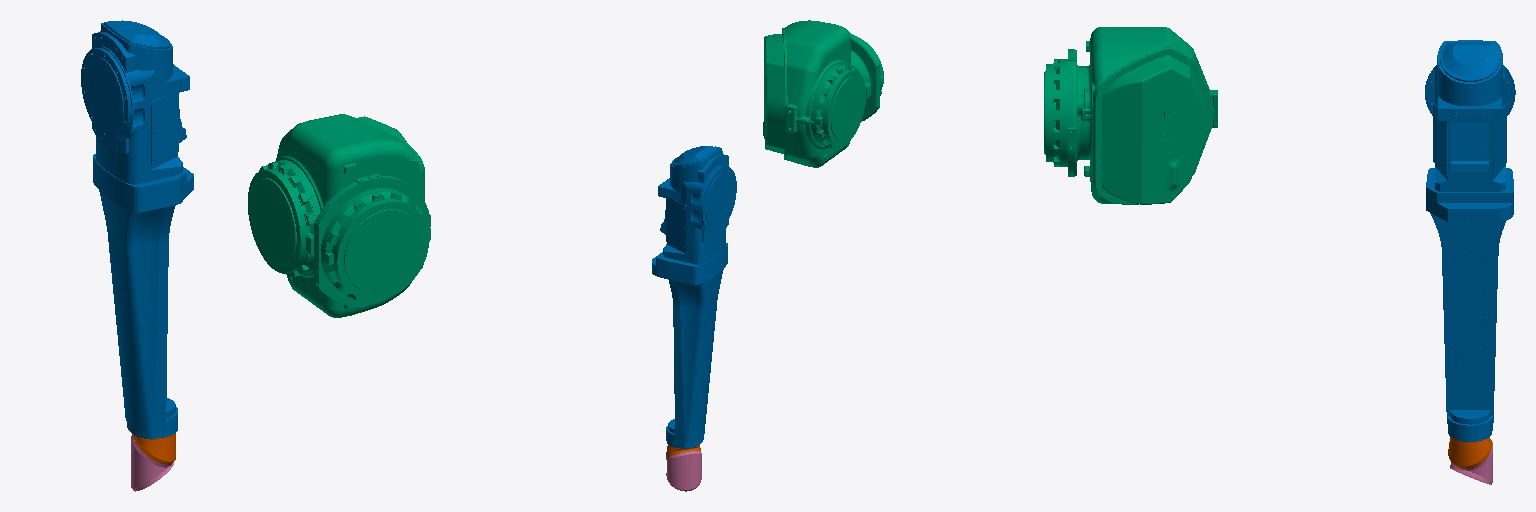
URDF robot description (IRB5500-27_rev00):
<?xml version="1.0" ?>
<robot name="IRB5500-27_rev00">

<link name="base_link">
  <inertial>
    <origin xyz="0.002483396105407028 -0.342647003764746 1.3243039524168518" rpy="0 0 0"/>
    <mass value="967.1601750189261"/>
    <inertia ixx="50.446618" iyy="56.81412" izz="83.832361" ixy="0.001468" iyz="2.394735" ixz="0.161943"/>
  </inertial>
  <visual>
    <origin xyz="0 0 0" rpy="0 0 0"/>
    <geometry>
      <mesh filename="package://IRB5500-27_rev00_description/meshes/base_link.stl" scale="0.001 0.001 0.001"/>
    </geometry>
    <material name="silver"/>
  </visual>
  <collision>
    <origin xyz="0 0 0" rpy="0 0 0"/>
    <geometry>
      <mesh filename="package://IRB5500-27_rev00_description/meshes/base_link.stl" scale="0.001 0.001 0.001"/>
    </geometry>
  </collision>
</link>

<link name="IRB5500-27_rev00_AXIS7_ELBOW_CAD_1">
  <inertial>
    <origin xyz="0.0003509592640977202 0.12743781394873108 -0.31158977032562873" rpy="0 0 0"/>
    <mass value="702.2698415858004"/>
    <inertia ixx="51.464422" iyy="39.588601" izz="31.478418" ixy="0.074758" iyz="17.836383" ixz="0.02652"/>
  </inertial>
  <visual>
    <origin xyz="0.0 0.193265 -1.160001" rpy="0 0 0"/>
    <geometry>
      <mesh filename="package://IRB5500-27_rev00_description/meshes/IRB5500-27_rev00_AXIS7_ELBOW_CAD_1.stl" scale="0.001 0.001 0.001"/>
    </geometry>
    <material name="silver"/>
  </visual>
  <collision>
    <origin xyz="0.0 0.193265 -1.160001" rpy="0 0 0"/>
    <geometry>
      <mesh filename="package://IRB5500-27_rev00_description/meshes/IRB5500-27_rev00_AXIS7_ELBOW_CAD_1.stl" scale="0.001 0.001 0.001"/>
    </geometry>
  </collision>
</link>

<link name="IRB5500-27_rev00_LINK1_CAD_1">
  <inertial>
    <origin xyz="0.025583014458332692 0.34431366936717306 9.204506282023406e-05" rpy="0 0 0"/>
    <mass value="1176.3951689098158"/>
    <inertia ixx="64.129491" iyy="51.509034" izz="50.070808" ixy="1.140649" iyz="0.036538" ixz="-0.021801"/>
  </inertial>
  <visual>
    <origin xyz="0.0 -0.204235 -0.531501" rpy="0 0 0"/>
    <geometry>
      <mesh filename="package://IRB5500-27_rev00_description/meshes/IRB5500-27_rev00_LINK1_CAD_1.stl" scale="0.001 0.001 0.001"/>
    </geometry>
    <material name="silver"/>
  </visual>
  <collision>
    <origin xyz="0.0 -0.204235 -0.531501" rpy="0 0 0"/>
    <geometry>
      <mesh filename="package://IRB5500-27_rev00_description/meshes/IRB5500-27_rev00_LINK1_CAD_1.stl" scale="0.001 0.001 0.001"/>
    </geometry>
  </collision>
</link>

<link name="IRB5500-27_rev00_LINK2_CAD_1">
  <inertial>
    <origin xyz="-0.0864843863838072 0.6879461864387152 -0.00018906668010598704" rpy="0 0 0"/>
    <mass value="723.6999417468928"/>
    <inertia ixx="163.23224" iyy="8.46497" izz="160.035017" ixy="2.562785" iyz="0.028196" ixz="-0.014957"/>
  </inertial>
  <visual>
    <origin xyz="0.231 -0.640235 -0.531501" rpy="0 0 0"/>
    <geometry>
      <mesh filename="package://IRB5500-27_rev00_description/meshes/IRB5500-27_rev00_LINK2_CAD_1.stl" scale="0.001 0.001 0.001"/>
    </geometry>
    <material name="silver"/>
  </visual>
  <collision>
    <origin xyz="0.231 -0.640235 -0.531501" rpy="0 0 0"/>
    <geometry>
      <mesh filename="package://IRB5500-27_rev00_description/meshes/IRB5500-27_rev00_LINK2_CAD_1.stl" scale="0.001 0.001 0.001"/>
    </geometry>
  </collision>
</link>

<link name="IRB5500-27_rev00_LINK3_CAD_1">
  <inertial>
    <origin xyz="0.14845834994718493 0.0005145714777818888 -0.3972525527369227" rpy="0 0 0"/>
    <mass value="607.3432806136773"/>
    <inertia ixx="118.657638" iyy="118.266163" izz="6.245279" ixy="-0.043898" iyz="-0.001657" ixz="3.559113"/>
  </inertial>
  <visual>
    <origin xyz="0.217 -1.940235 -0.531501" rpy="0 0 0"/>
    <geometry>
      <mesh filename="package://IRB5500-27_rev00_description/meshes/IRB5500-27_rev00_LINK3_CAD_1.stl" scale="0.001 0.001 0.001"/>
    </geometry>
    <material name="silver"/>
  </visual>
  <collision>
    <origin xyz="0.217 -1.940235 -0.531501" rpy="0 0 0"/>
    <geometry>
      <mesh filename="package://IRB5500-27_rev00_description/meshes/IRB5500-27_rev00_LINK3_CAD_1.stl" scale="0.001 0.001 0.001"/>
    </geometry>
  </collision>
</link>

<link name="IRB5500-27_rev00_LINK4_CAD_1">
  <inertial>
    <origin xyz="0.012058863240822004 -0.009960582103303084 -0.04504410797678493" rpy="0 0 0"/>
    <mass value="13.246564877496244"/>
    <inertia ixx="0.033719" iyy="0.032273" izz="0.043539" ixy="-0.003758" iyz="-0.004059" ixz="0.004914"/>
  </inertial>
  <visual>
    <origin xyz="-0.005 -1.940235 0.909499" rpy="0 0 0"/>
    <geometry>
      <mesh filename="package://IRB5500-27_rev00_description/meshes/IRB5500-27_rev00_LINK4_CAD_1.stl" scale="0.001 0.001 0.001"/>
    </geometry>
    <material name="silver"/>
  </visual>
  <collision>
    <origin xyz="-0.005 -1.940235 0.909499" rpy="0 0 0"/>
    <geometry>
      <mesh filename="package://IRB5500-27_rev00_description/meshes/IRB5500-27_rev00_LINK4_CAD_1.stl" scale="0.001 0.001 0.001"/>
    </geometry>
  </collision>
</link>

<link name="IRB5500-27_rev00_LINK5_CAD_1">
  <inertial>
    <origin xyz="-0.017548707689669776 0.014092028108875665 -0.05993422656961034" rpy="0 0 0"/>
    <mass value="22.90378370207619"/>
    <inertia ixx="0.08786" iyy="0.084554" izz="0.078073" ixy="-0.010367" iyz="1.9e-05" ixz="1.8e-05"/>
  </inertial>
  <visual>
    <origin xyz="-0.002347 -1.942426 0.983914" rpy="0 0 0"/>
    <geometry>
      <mesh filename="package://IRB5500-27_rev00_description/meshes/IRB5500-27_rev00_LINK5_CAD_1.stl" scale="0.001 0.001 0.001"/>
    </geometry>
    <material name="silver"/>
  </visual>
  <collision>
    <origin xyz="-0.002347 -1.942426 0.983914" rpy="0 0 0"/>
    <geometry>
      <mesh filename="package://IRB5500-27_rev00_description/meshes/IRB5500-27_rev00_LINK5_CAD_1.stl" scale="0.001 0.001 0.001"/>
    </geometry>
  </collision>
</link>

<link name="IRB5500-27_rev00_LINK5B_CAD_1">
  <inertial>
    <origin xyz="0.014048995269269985 -0.008687870182828128 -0.02647013689771649" rpy="0 0 0"/>
    <mass value="11.0274888011437"/>
    <inertia ixx="0.025137" iyy="0.025856" izz="0.031479" ixy="-0.00211" iyz="0.004105" ixz="-0.004603"/>
  </inertial>
  <visual>
    <origin xyz="-0.001486 -1.941401 1.103779" rpy="0 0 0"/>
    <geometry>
      <mesh filename="package://IRB5500-27_rev00_description/meshes/IRB5500-27_rev00_LINK5B_CAD_1.stl" scale="0.001 0.001 0.001"/>
    </geometry>
    <material name="silver"/>
  </visual>
  <collision>
    <origin xyz="-0.001486 -1.941401 1.103779" rpy="0 0 0"/>
    <geometry>
      <mesh filename="package://IRB5500-27_rev00_description/meshes/IRB5500-27_rev00_LINK5B_CAD_1.stl" scale="0.001 0.001 0.001"/>
    </geometry>
  </collision>
</link>

<link name="IRB5500-27_rev00_LINK6_CAD_1">
  <inertial>
    <origin xyz="0.0020646454262464864 0.0009589695181408953 -0.0037290808347418825" rpy="0 0 0"/>
    <mass value="0.3574993425525092"/>
    <inertia ixx="0.000656" iyy="0.000566" izz="0.000922" ixy="4.5e-05" iyz="-0.000104" ixz="-0.000217"/>
  </inertial>
  <visual>
    <origin xyz="-0.038076 -1.954942 1.170157" rpy="0 0 0"/>
    <geometry>
      <mesh filename="package://IRB5500-27_rev00_description/meshes/IRB5500-27_rev00_LINK6_CAD_1.stl" scale="0.001 0.001 0.001"/>
    </geometry>
    <material name="silver"/>
  </visual>
  <collision>
    <origin xyz="-0.038076 -1.954942 1.170157" rpy="0 0 0"/>
    <geometry>
      <mesh filename="package://IRB5500-27_rev00_description/meshes/IRB5500-27_rev00_LINK6_CAD_1.stl" scale="0.001 0.001 0.001"/>
    </geometry>
  </collision>
</link>

<joint name="j7" type="continuous">
  <origin xyz="0.0 -0.193265 1.160001" rpy="0 0 0"/>
  <parent link="base_link"/>
  <child link="IRB5500-27_rev00_AXIS7_ELBOW_CAD_1"/>
  <axis xyz="0.0 0.0 1.0"/>
</joint>

<joint name="j1" type="continuous">
  <origin xyz="0.0 0.3975 -0.6285" rpy="0 0 0"/>
  <parent link="IRB5500-27_rev00_AXIS7_ELBOW_CAD_1"/>
  <child link="IRB5500-27_rev00_LINK1_CAD_1"/>
  <axis xyz="0.0 1.0 0.0"/>
</joint>

<joint name="j2" type="continuous">
  <origin xyz="-0.231 0.436 0.0" rpy="0 0 0"/>
  <parent link="IRB5500-27_rev00_LINK1_CAD_1"/>
  <child link="IRB5500-27_rev00_LINK2_CAD_1"/>
  <axis xyz="-1.0 -0.0 -0.0"/>
</joint>

<joint name="j3" type="continuous">
  <origin xyz="0.014 1.3 0.0" rpy="0 0 0"/>
  <parent link="IRB5500-27_rev00_LINK2_CAD_1"/>
  <child link="IRB5500-27_rev00_LINK3_CAD_1"/>
  <axis xyz="1.0 0.0 -0.0"/>
</joint>

<joint name="j4" type="continuous">
  <origin xyz="0.222 0.0 -1.441" rpy="0 0 0"/>
  <parent link="IRB5500-27_rev00_LINK3_CAD_1"/>
  <child link="IRB5500-27_rev00_LINK4_CAD_1"/>
  <axis xyz="0.0 -0.0 -1.0"/>
</joint>

<joint name="j5" type="continuous">
  <origin xyz="-0.002653 0.002191 -0.074415" rpy="0 0 0"/>
  <parent link="IRB5500-27_rev00_LINK4_CAD_1"/>
  <child link="IRB5500-27_rev00_LINK5_CAD_1"/>
  <axis xyz="-0.442229 0.365272 -0.819152"/>
</joint>

<joint name="j6" type="continuous">
  <origin xyz="-0.000861 -0.001025 -0.119865" rpy="0 0 0"/>
  <parent link="IRB5500-27_rev00_LINK5_CAD_1"/>
  <child link="IRB5500-27_rev00_LINK5B_CAD_1"/>
  <axis xyz="0.430464 -0.379286 -0.81905"/>
</joint>

<joint name="eoat" type="revolute">
  <origin xyz="0.03659 0.013541 -0.066378" rpy="0 0 0"/>
  <parent link="IRB5500-27_rev00_LINK5B_CAD_1"/>
  <child link="IRB5500-27_rev00_LINK6_CAD_1"/>
  <axis xyz="-0.4723 -0.219672 0.853626"/>
  <limit upper="0.0" lower="0.0" effort="100" velocity="100"/>
</joint>

</robot>

--- What the picture shows (computed from the rendered views, not written in the file) ---
3 views of the same robot in one strip: view 1: azimuth 30°, elevation 25°; view 2: azimuth 150°, elevation 25°; view 3: azimuth 270°, elevation 25° (orthographic).
Robot: IRB5500-27_rev00 — 9 links, 8 joints (1 revolute, 7 continuous); root link base_link; default pose: every joint at zero.
Visible links, largest first — view 1: IRB5500-27_rev00_LINK3_CAD_1, IRB5500-27_rev00_LINK1_CAD_1, IRB5500-27_rev00_LINK5_CAD_1, IRB5500-27_rev00_LINK4_CAD_1; view 2: IRB5500-27_rev00_LINK3_CAD_1, IRB5500-27_rev00_LINK1_CAD_1, IRB5500-27_rev00_LINK5_CAD_1; view 3: IRB5500-27_rev00_LINK3_CAD_1, IRB5500-27_rev00_LINK1_CAD_1, IRB5500-27_rev00_LINK4_CAD_1, IRB5500-27_rev00_LINK5_CAD_1.
Link boxes in pixels (x1,y1,x2,y2): IRB5500-27_rev00_LINK3_CAD_1: (81,20,193,439); IRB5500-27_rev00_LINK1_CAD_1: (248,114,430,317); IRB5500-27_rev00_LINK5_CAD_1: (131,434,173,491); IRB5500-27_rev00_LINK4_CAD_1: (133,433,175,464); IRB5500-27_rev00_LINK3_CAD_1: (652,146,736,448); IRB5500-27_rev00_LINK1_CAD_1: (763,20,883,167); IRB5500-27_rev00_LINK5_CAD_1: (666,451,701,491); IRB5500-27_rev00_LINK3_CAD_1: (1425,40,1515,441); IRB5500-27_rev00_LINK1_CAD_1: (1044,27,1217,204); IRB5500-27_rev00_LINK4_CAD_1: (1448,437,1491,468); IRB5500-27_rev00_LINK5_CAD_1: (1450,440,1492,484).
Size in the robot's own frame: 0.5293 by 1.92 by 2.04 metres.
4 mesh visuals loaded from 9 distinct referenced files (4 binary STL); not drawn: 5 (reference not matched to a file when rendering).